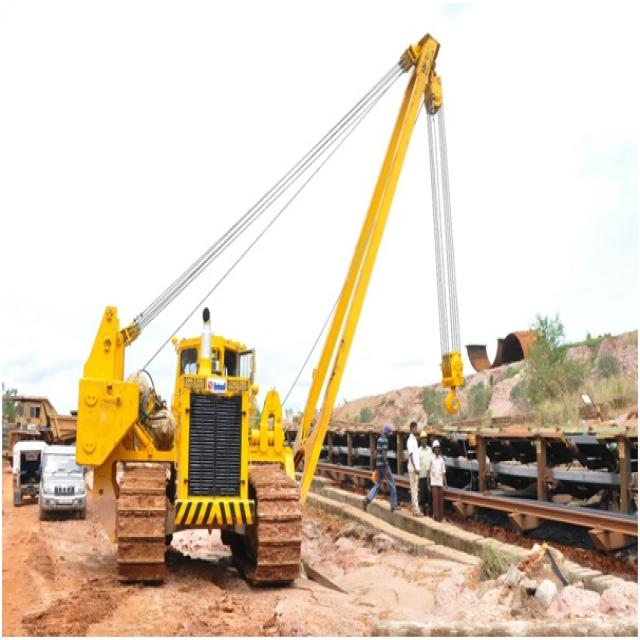buldozerpayloadergrader: (122, 321, 302, 599)
dump_truck: (3, 392, 78, 438)
light_vehicle: (42, 443, 90, 520), (13, 442, 43, 496)
